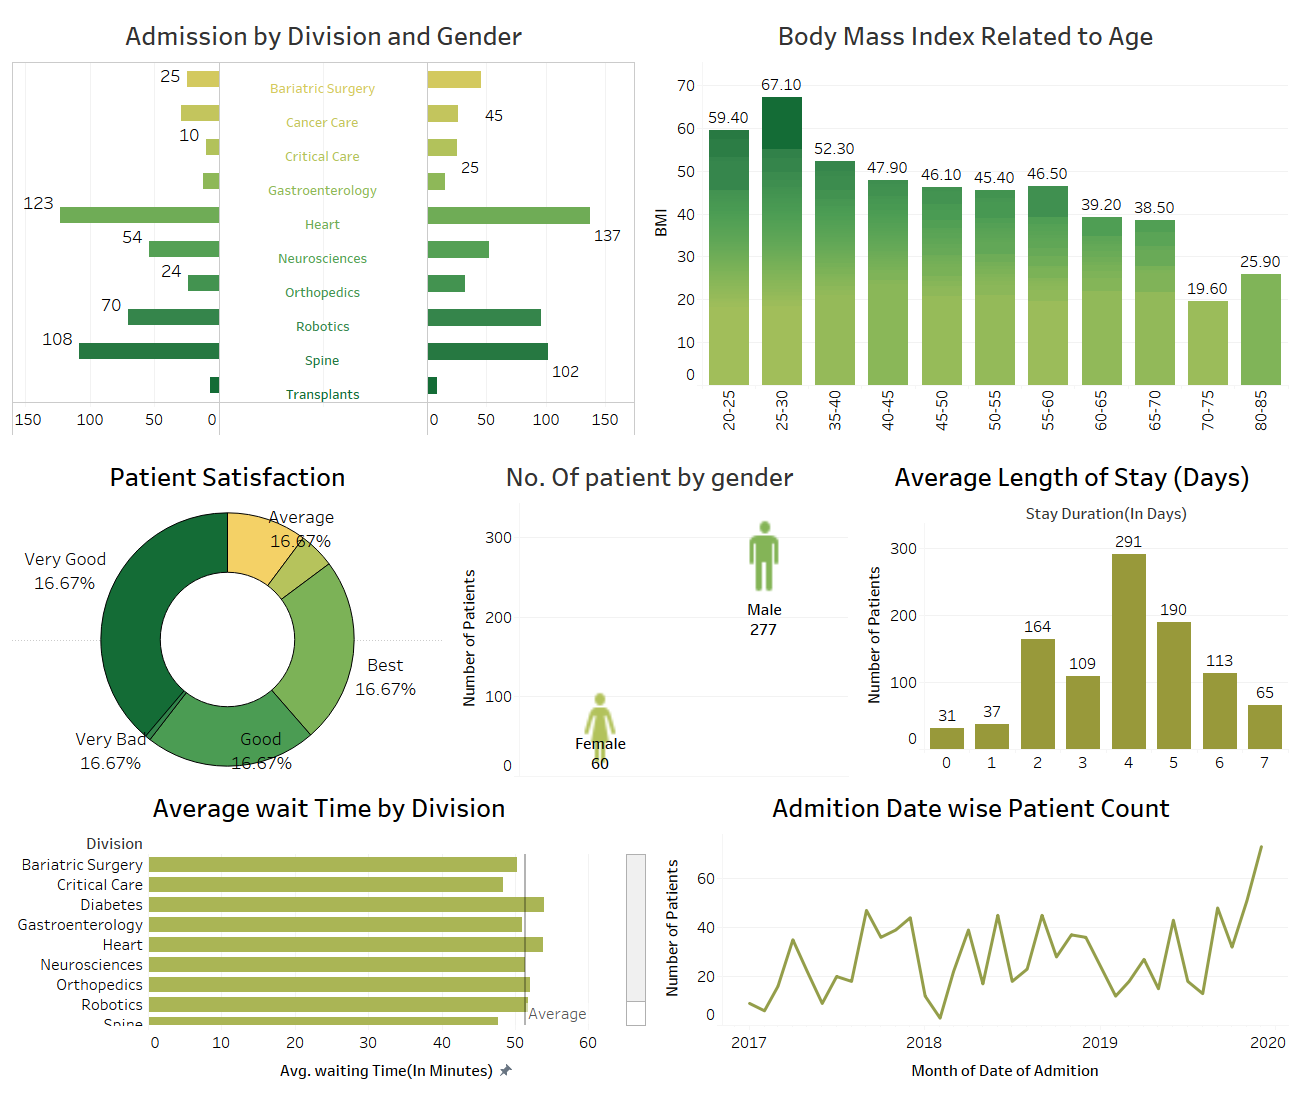

What the dashboard file says about the page in this screenshot:
{"tool":"tableau","page":{"name":"Dashboard 1","canvas":[1300,1100],"ordinal":0},"visuals":[{"type":"worksheet","title":"Divisio by gender","mark":"Automatic","rows":["Division"],"cols":["Female ","Min. Number of Records","Male"],"box":[8,8,631,441]},{"type":"worksheet","title":"Bmi","mark":"Bar","rows":["BMI1"],"cols":["Age new"],"box":[639,8,653,441]},{"type":"worksheet","title":"Patient Satisfaction","mark":"Pie","rows":["Calculation_722264846416449537","Calculation_722264846416457731"],"box":[8,449,439,331]},{"type":"worksheet","title":"No. of patient by gender","mark":"Shape","rows":["Number of Records"],"cols":["Gender"],"box":[447,449,433.8,331]},{"type":"worksheet","title":"Average Length of Stay (Days)","mark":"Automatic","rows":["Number of Records"],"cols":["Stay Duration(In Days)"],"box":[880.8,449,411.2,331]},{"type":"worksheet","title":"Average wait Time by Division","mark":"Automatic","rows":["Division"],"cols":["waiting Time(In Minutes)"],"box":[8,780,642,312]},{"type":"worksheet","title":"Sheet 6","mark":"Automatic","rows":["Count of Patient Name"],"cols":["Month of Date of Admition"],"box":[650,780,642,312]}]}

Visuals, with their boxes in screenshot pixels (x1, y1, x2, y2), scaled from the page's 1300x1100 canvas onto the 1300x1100 screenshot:
"Divisio by gender" worksheet: Rect(8, 8, 639, 449)
"Bmi" worksheet (Bar marks): Rect(639, 8, 1292, 449)
"Patient Satisfaction" worksheet (Pie marks): Rect(8, 449, 447, 780)
"No. of patient by gender" worksheet (Shape marks): Rect(447, 449, 881, 780)
"Average Length of Stay (Days)" worksheet: Rect(881, 449, 1292, 780)
"Average wait Time by Division" worksheet: Rect(8, 780, 650, 1092)
"Sheet 6" worksheet: Rect(650, 780, 1292, 1092)
